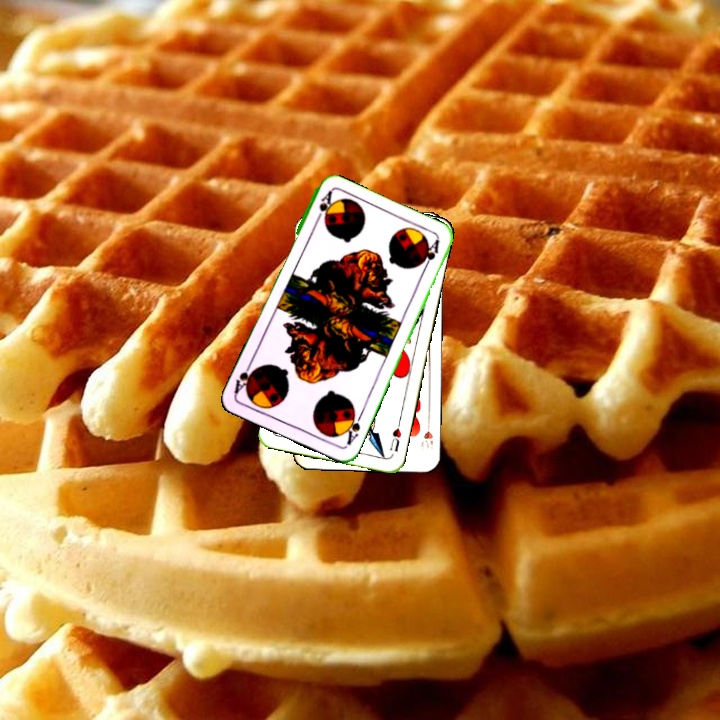H10: (417, 416, 436, 453)
HU: (386, 417, 404, 454)
SA: (341, 406, 365, 448), (311, 188, 334, 226)
